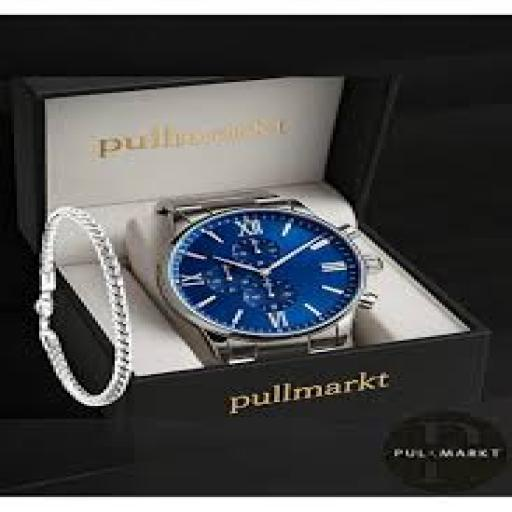KolSaati: (92, 159, 418, 422)
